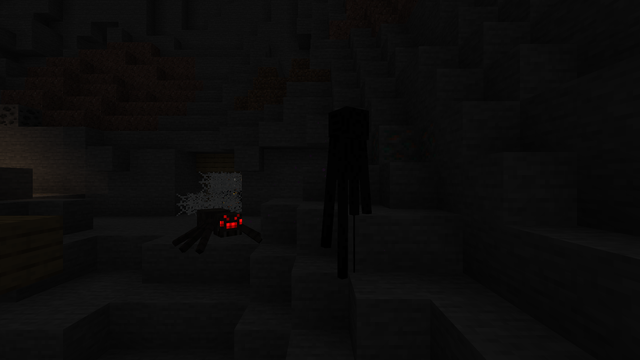araignees: (178, 205, 255, 251)
endermens: (330, 101, 368, 278)
